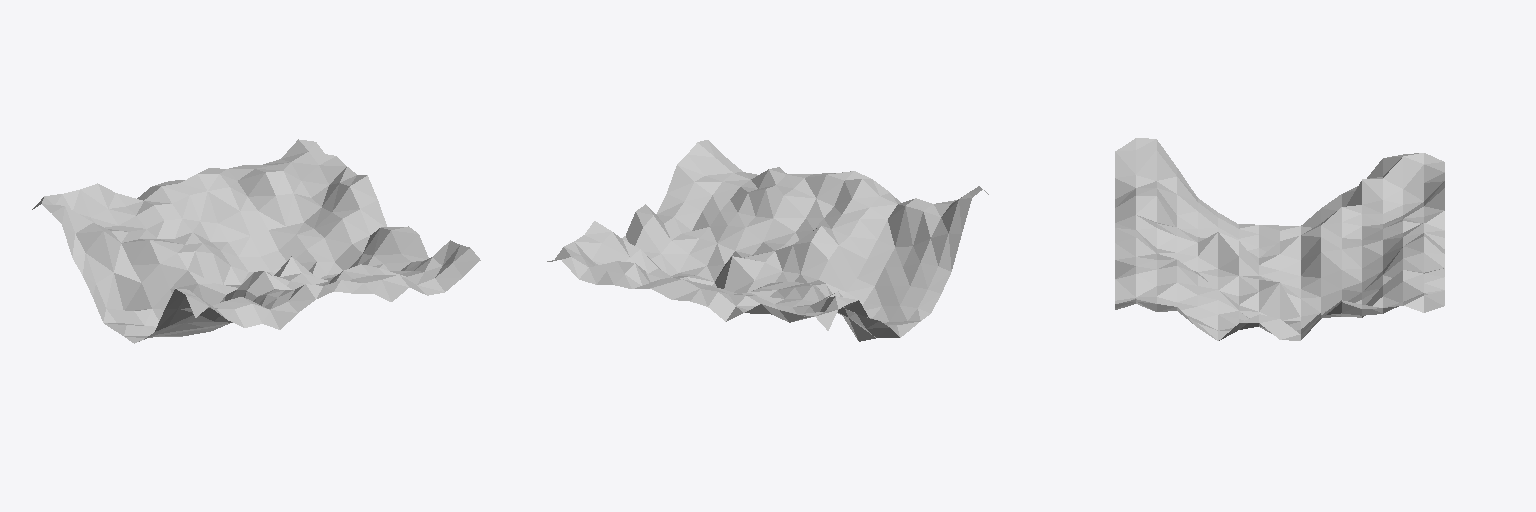
File: Mountain_04_2.obj
3 renders of one model, left to right at view 1: azimuth 30°, elevation 25°; view 2: azimuth 150°, elevation 25°; view 3: azimuth 270°, elevation 25°, orthographic.
Visible parts, largest first — view 1: Plane.002; view 2: Plane.002; view 3: Plane.002.
Boxes of the visible parts, box(x1,y1,x2,y2) form: Plane.002: box(32, 139, 480, 343); Plane.002: box(547, 140, 988, 341); Plane.002: box(1115, 138, 1444, 340).
Size of the model in its own units: 176 by 57 by 176.